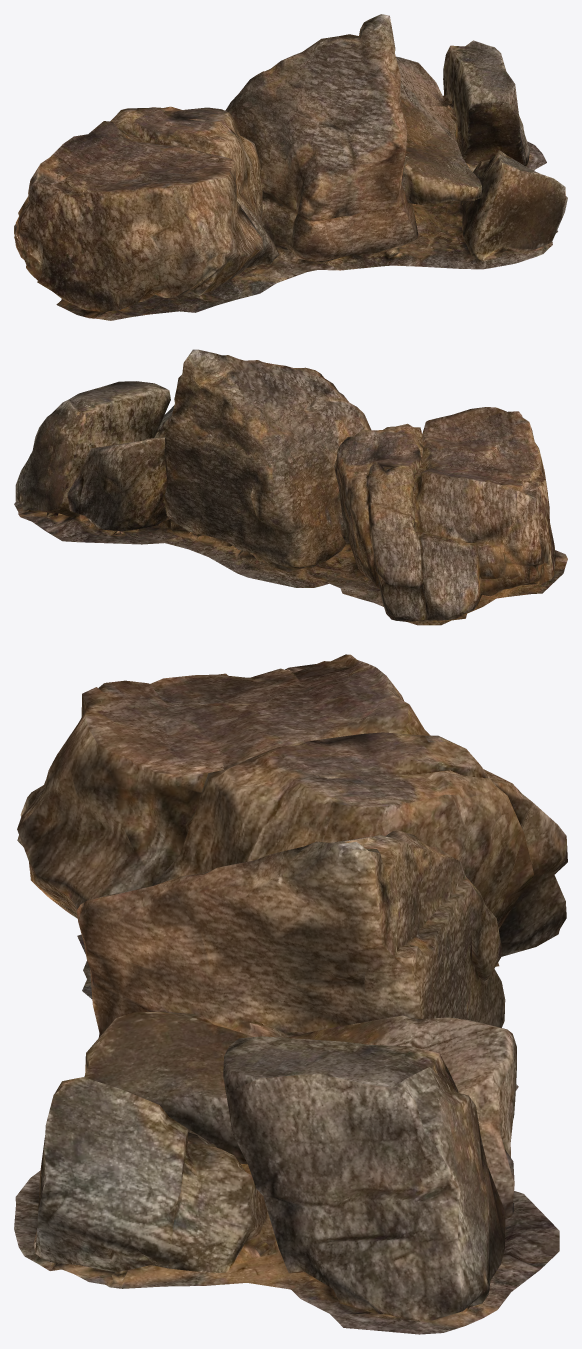
Rendered from boulder-a.glb.
3 renders of one model, top to bottom at view 1: azimuth 30°, elevation 25°; view 2: azimuth 150°, elevation 25°; view 3: azimuth 270°, elevation 25°, orthographic. The views are drawn at different scales.
Parts seen in each view (by area): view 1: boulder_02; view 2: boulder_02; view 3: boulder_02.
Boxes of the visible parts, bbox=[...] form: boulder_02: bbox=[14, 14, 567, 320]; boulder_02: bbox=[14, 349, 567, 625]; boulder_02: bbox=[14, 654, 567, 1334].
Bounding box in the file's own units: 2.52 × 0.8803 × 1.23.
Materials: 1 (1 with a texture image).
